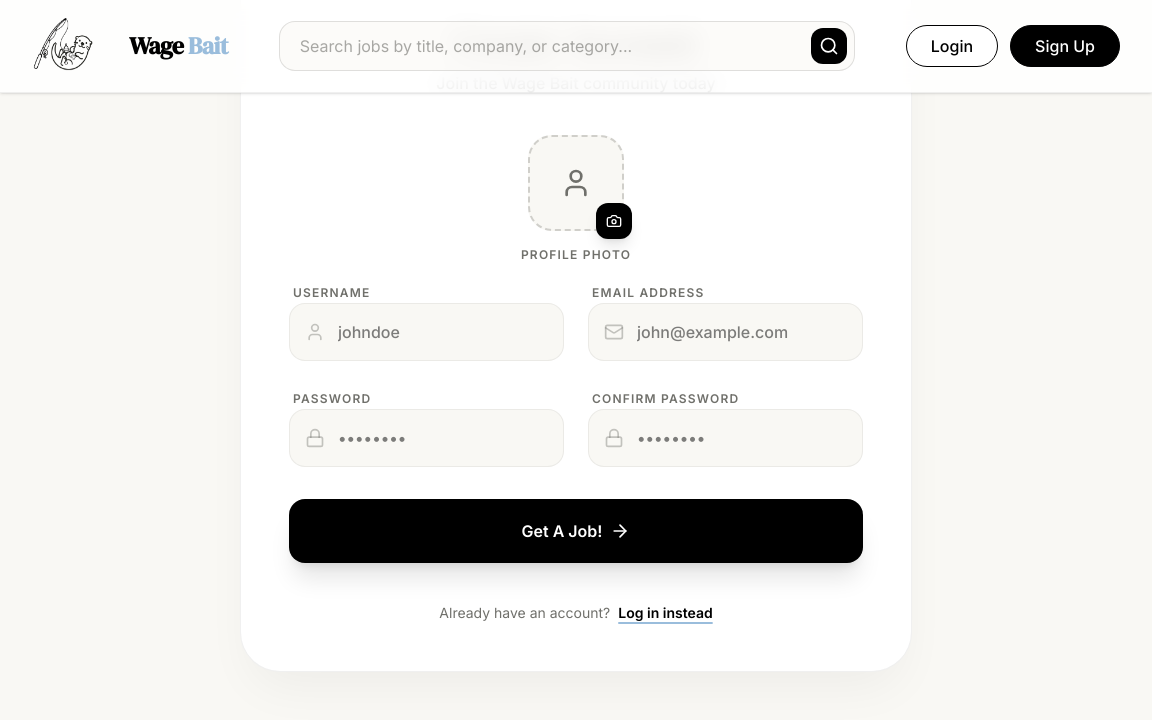
Test case: Register Component › shows error message if fields are empty
(page scrolled)
Step 1. Click the button "Get A Job!" → (576, 531), box [289,499,863,563]
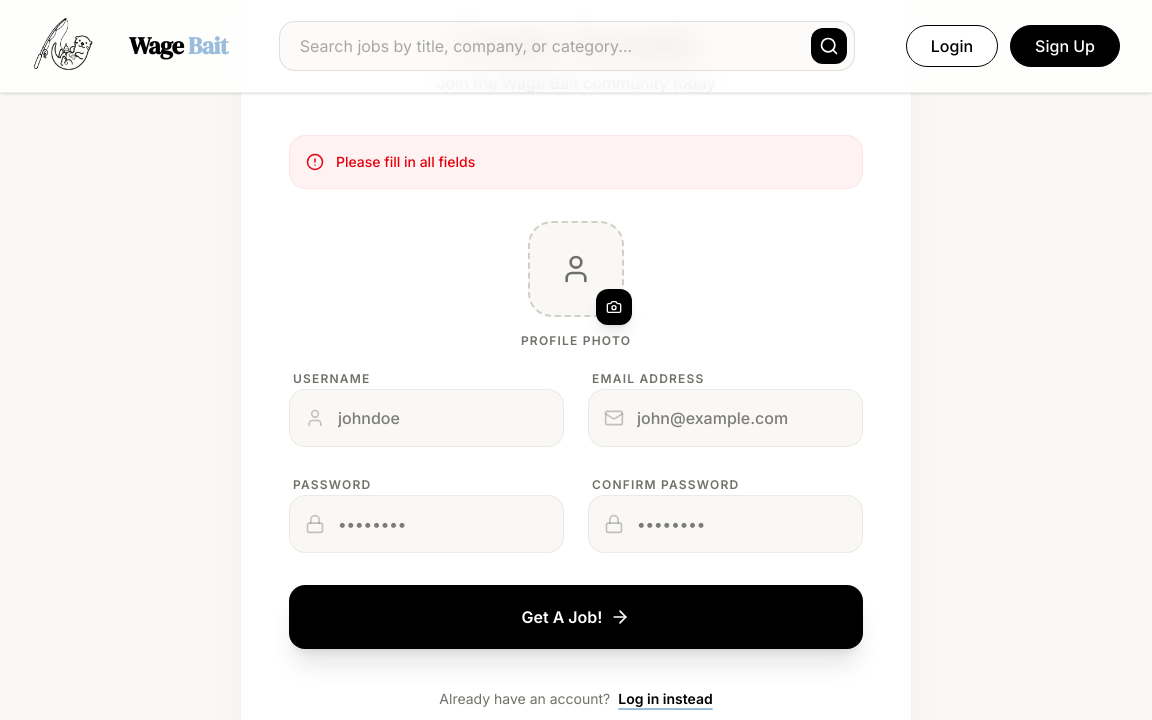
Expected: the text "Please fill in all fields" is shown, [336,152,475,172]
